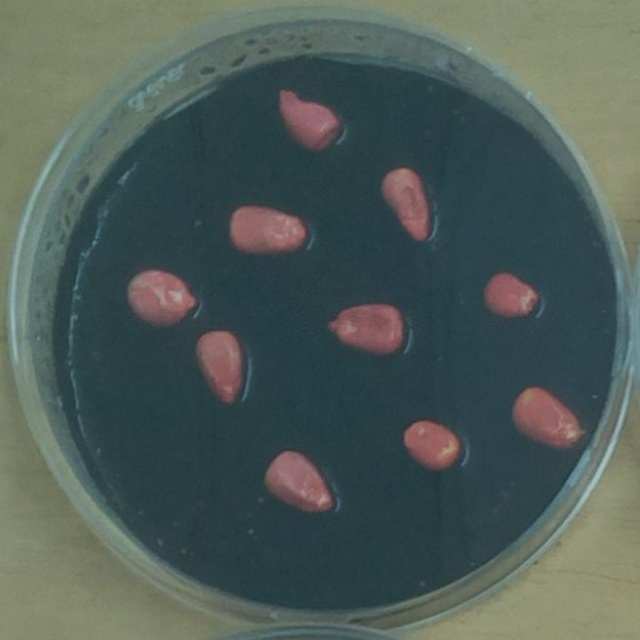Zea mays: (502, 377, 591, 458), (254, 443, 343, 522), (317, 293, 411, 365), (270, 80, 351, 160), (220, 195, 315, 263), (370, 159, 440, 250), (120, 261, 204, 334), (186, 321, 251, 413), (393, 412, 468, 481), (475, 265, 544, 327)
